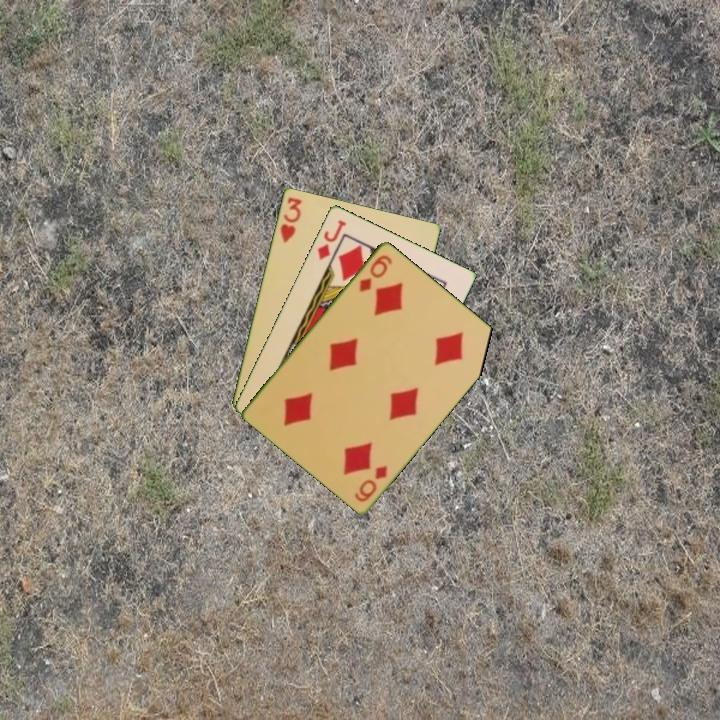3h: (277, 193, 304, 246)
6d: (355, 251, 395, 294), (351, 462, 390, 505)
Jd: (313, 216, 349, 263)
